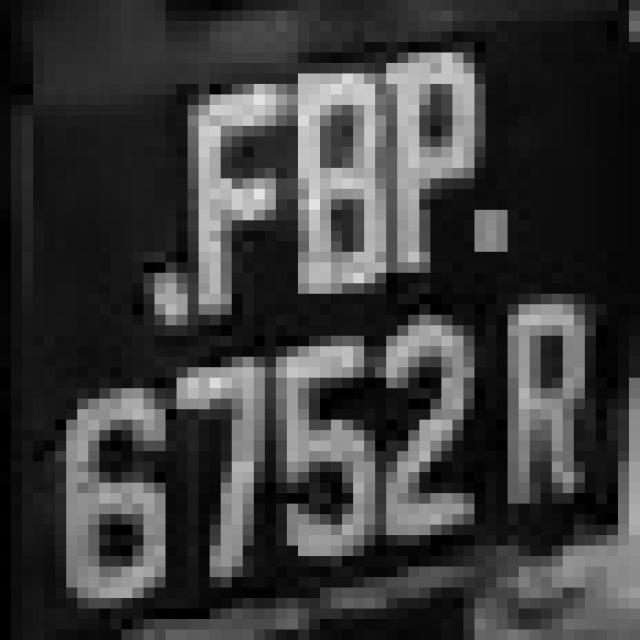2: (353, 304, 497, 556)
5: (254, 336, 375, 577)
6: (22, 357, 177, 619)
7: (165, 336, 276, 588)
B: (254, 21, 397, 315)
F: (154, 52, 287, 315)
P: (364, 42, 497, 294)
R: (474, 283, 596, 525)
